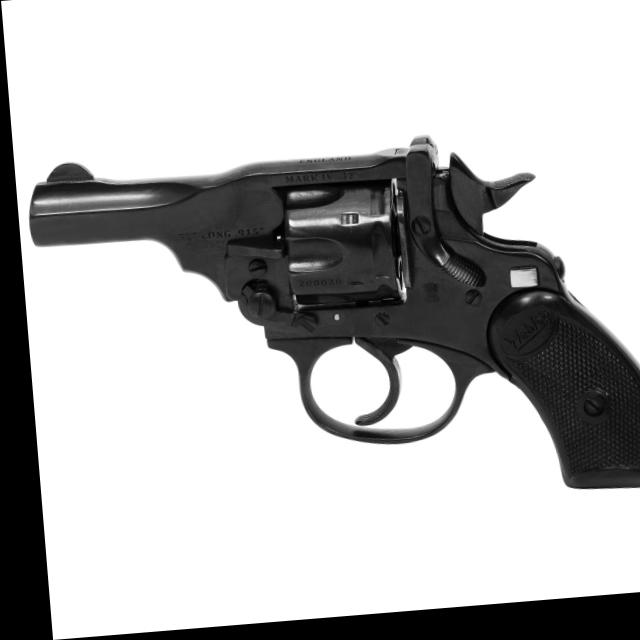handgun: (20, 122, 640, 534)
